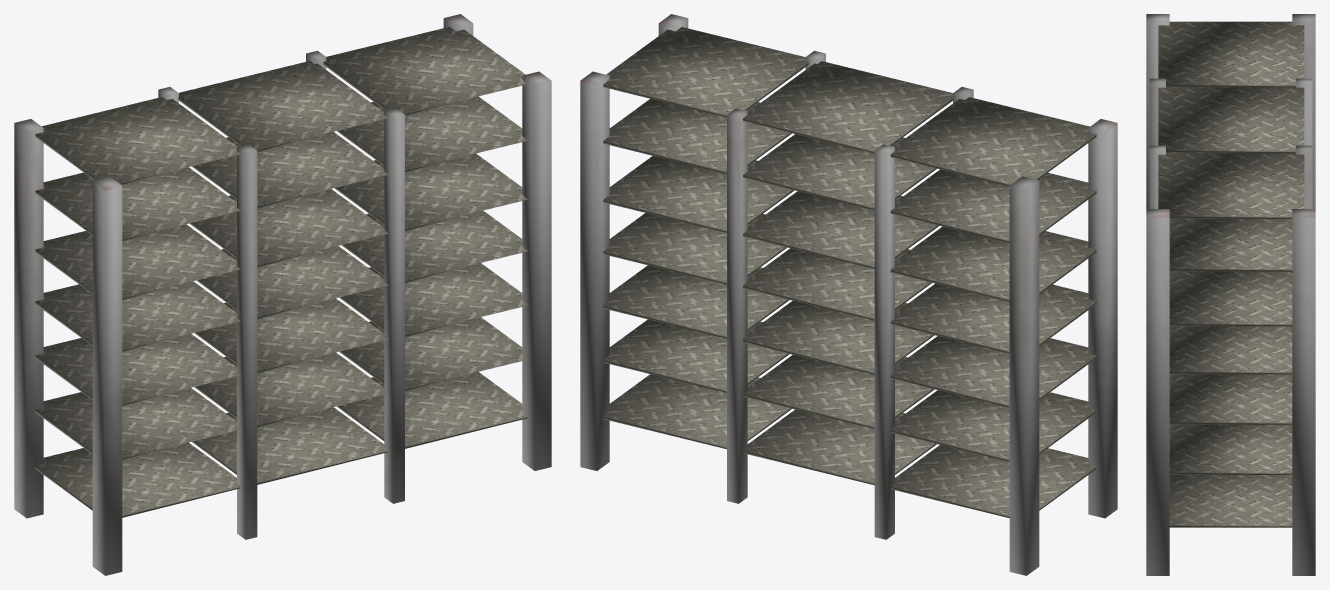
Rendered from IndustrialShelve.fbx.
3 views of the same model, side by side, from view 1: azimuth 30°, elevation 25°; view 2: azimuth 150°, elevation 25°; view 3: azimuth 270°, elevation 25° (orthographic). The views are drawn at different scales.
Parts seen in each view (by area): view 1: IndustrialShelve; view 2: IndustrialShelve; view 3: IndustrialShelve.
Boxes of the visible parts, <box> form: IndustrialShelve: <box>14,14,551,575</box>; IndustrialShelve: <box>580,14,1117,575</box>; IndustrialShelve: <box>1146,14,1315,575</box>.
Bounding box in the file's own units: 9.92 × 8.21 × 3.51.
